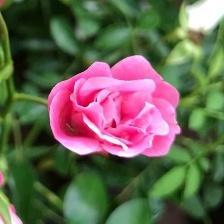rose: (49, 55, 183, 161)
